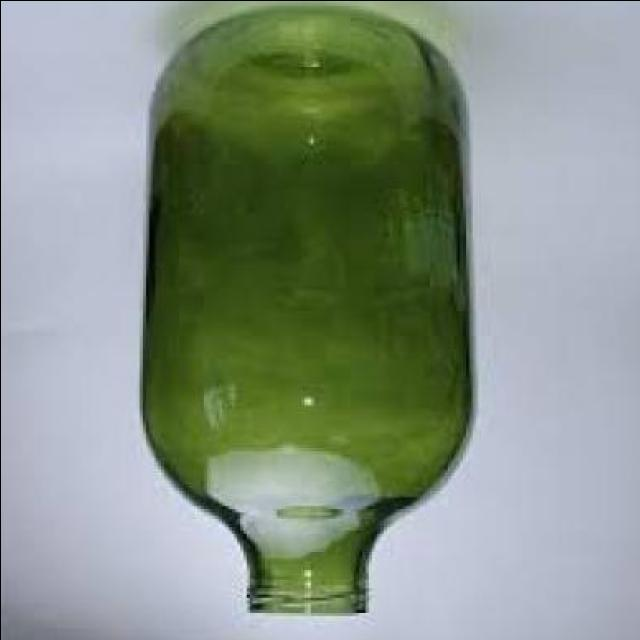kaca: (138, 12, 476, 616)
